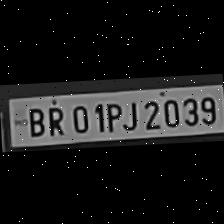0: (66, 100, 92, 133), (159, 94, 181, 126)
1: (90, 99, 108, 132)
2: (138, 95, 160, 129)
3: (179, 93, 199, 125)
9: (196, 92, 218, 124)
B: (23, 104, 46, 136)
J: (119, 96, 139, 130)
P: (96, 97, 120, 131)
R: (42, 101, 66, 135)
